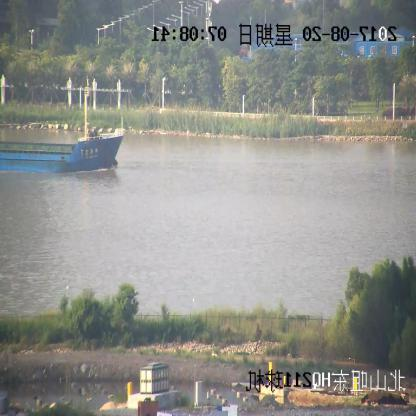Bulk Carrier: (0, 90, 124, 172)
